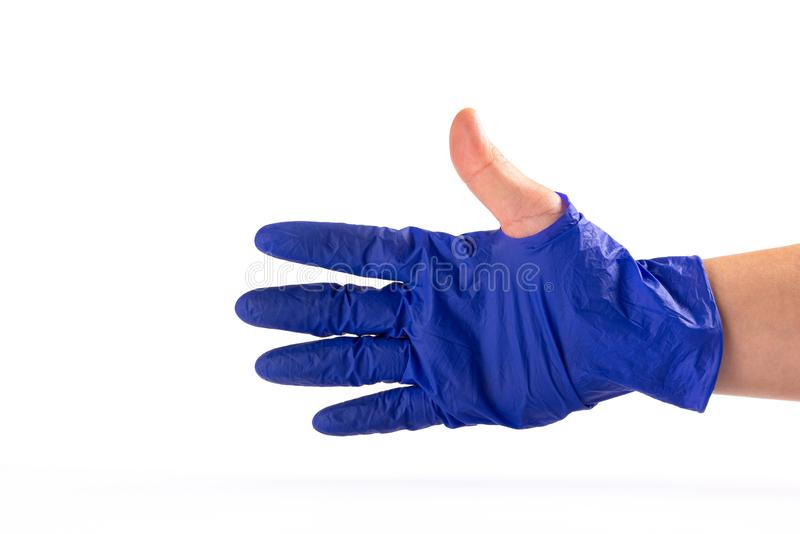defected: (213, 104, 664, 484)
